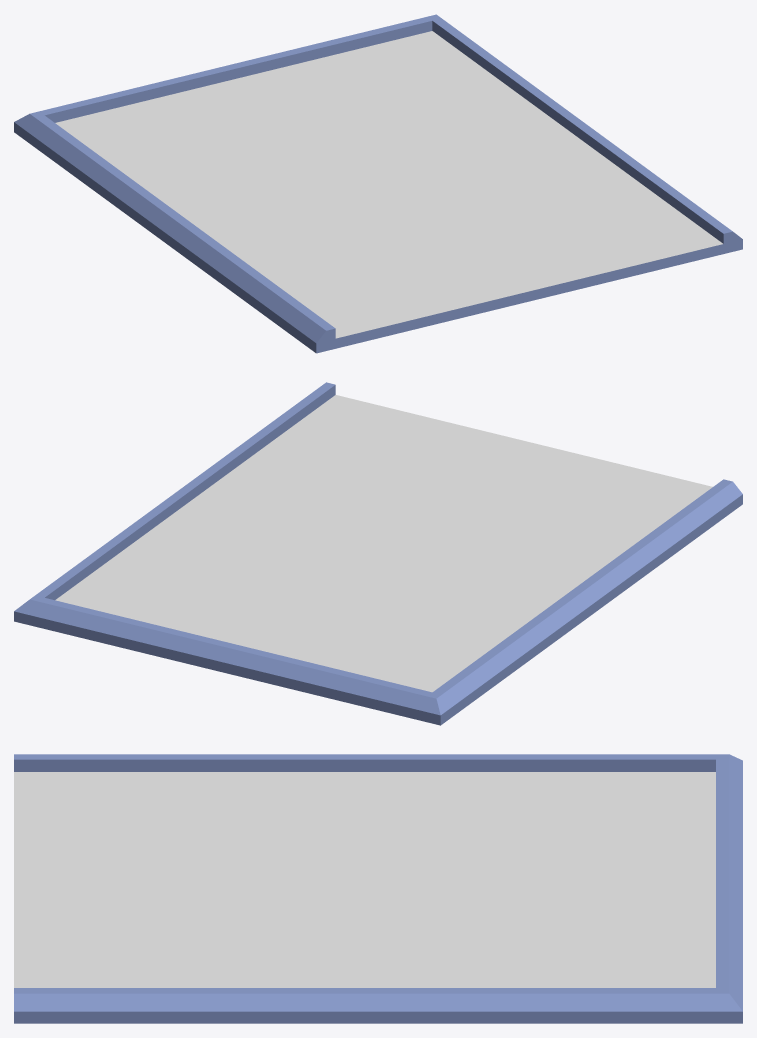
Rendered from tile-end.glb.
The picture shows the model from 3 angles, top to bottom: view 1: azimuth 30°, elevation 25°; view 2: azimuth 150°, elevation 25°; view 3: azimuth 270°, elevation 25°; orthographic projection. The views are drawn at different scales.
Visible parts, largest first — view 1: tile-end; view 2: tile-end; view 3: tile-end.
Boxes of the visible parts, x1,y1,x2,y2 form: tile-end: (14,14,742,353); tile-end: (14,382,742,725); tile-end: (14,754,742,1023).
Size of the model in its own units: 11 by 0.5 by 13.5.
